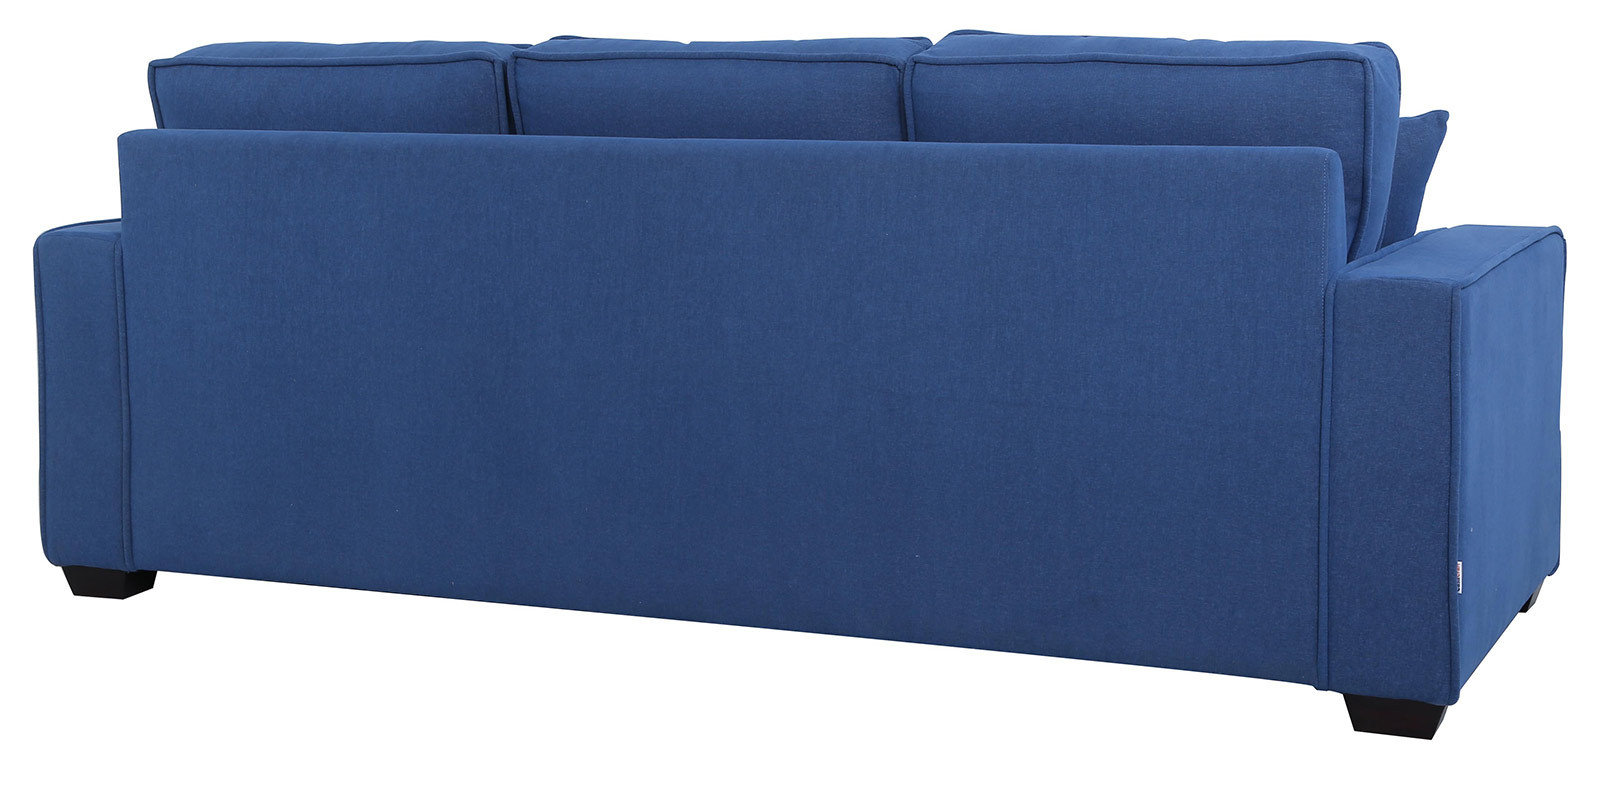Hugo Three Seater Sofa in Denim Blue Colour by CasaCraft: (19, 21, 1579, 764)
